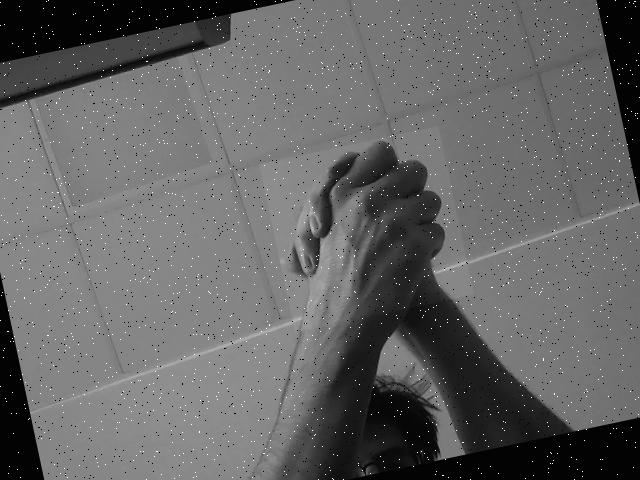friend: (281, 137, 458, 331)
